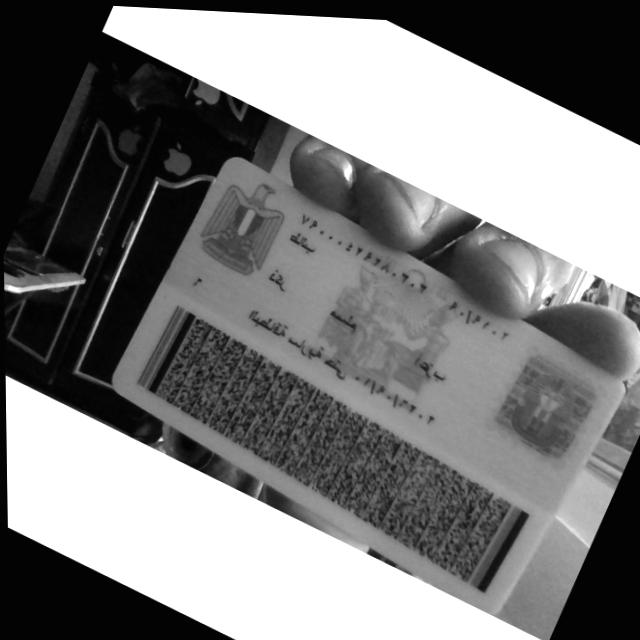id_card: (113, 156, 624, 612)
